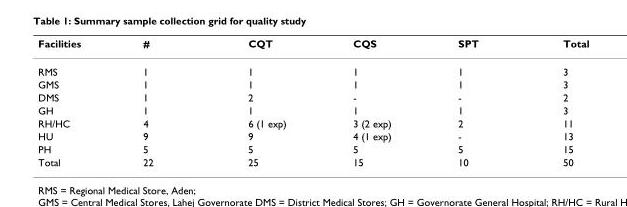table: (37, 36, 588, 167)
table column: (200, 36, 318, 167), (318, 36, 423, 167), (423, 36, 520, 167), (111, 36, 200, 167), (37, 36, 111, 167), (520, 36, 588, 167)
table column header: (37, 36, 588, 57)
table row: (37, 36, 588, 57), (37, 57, 588, 77), (37, 77, 588, 90), (37, 90, 588, 103), (37, 103, 588, 116), (37, 116, 588, 129), (37, 129, 588, 142), (37, 142, 588, 155), (37, 155, 588, 167)
